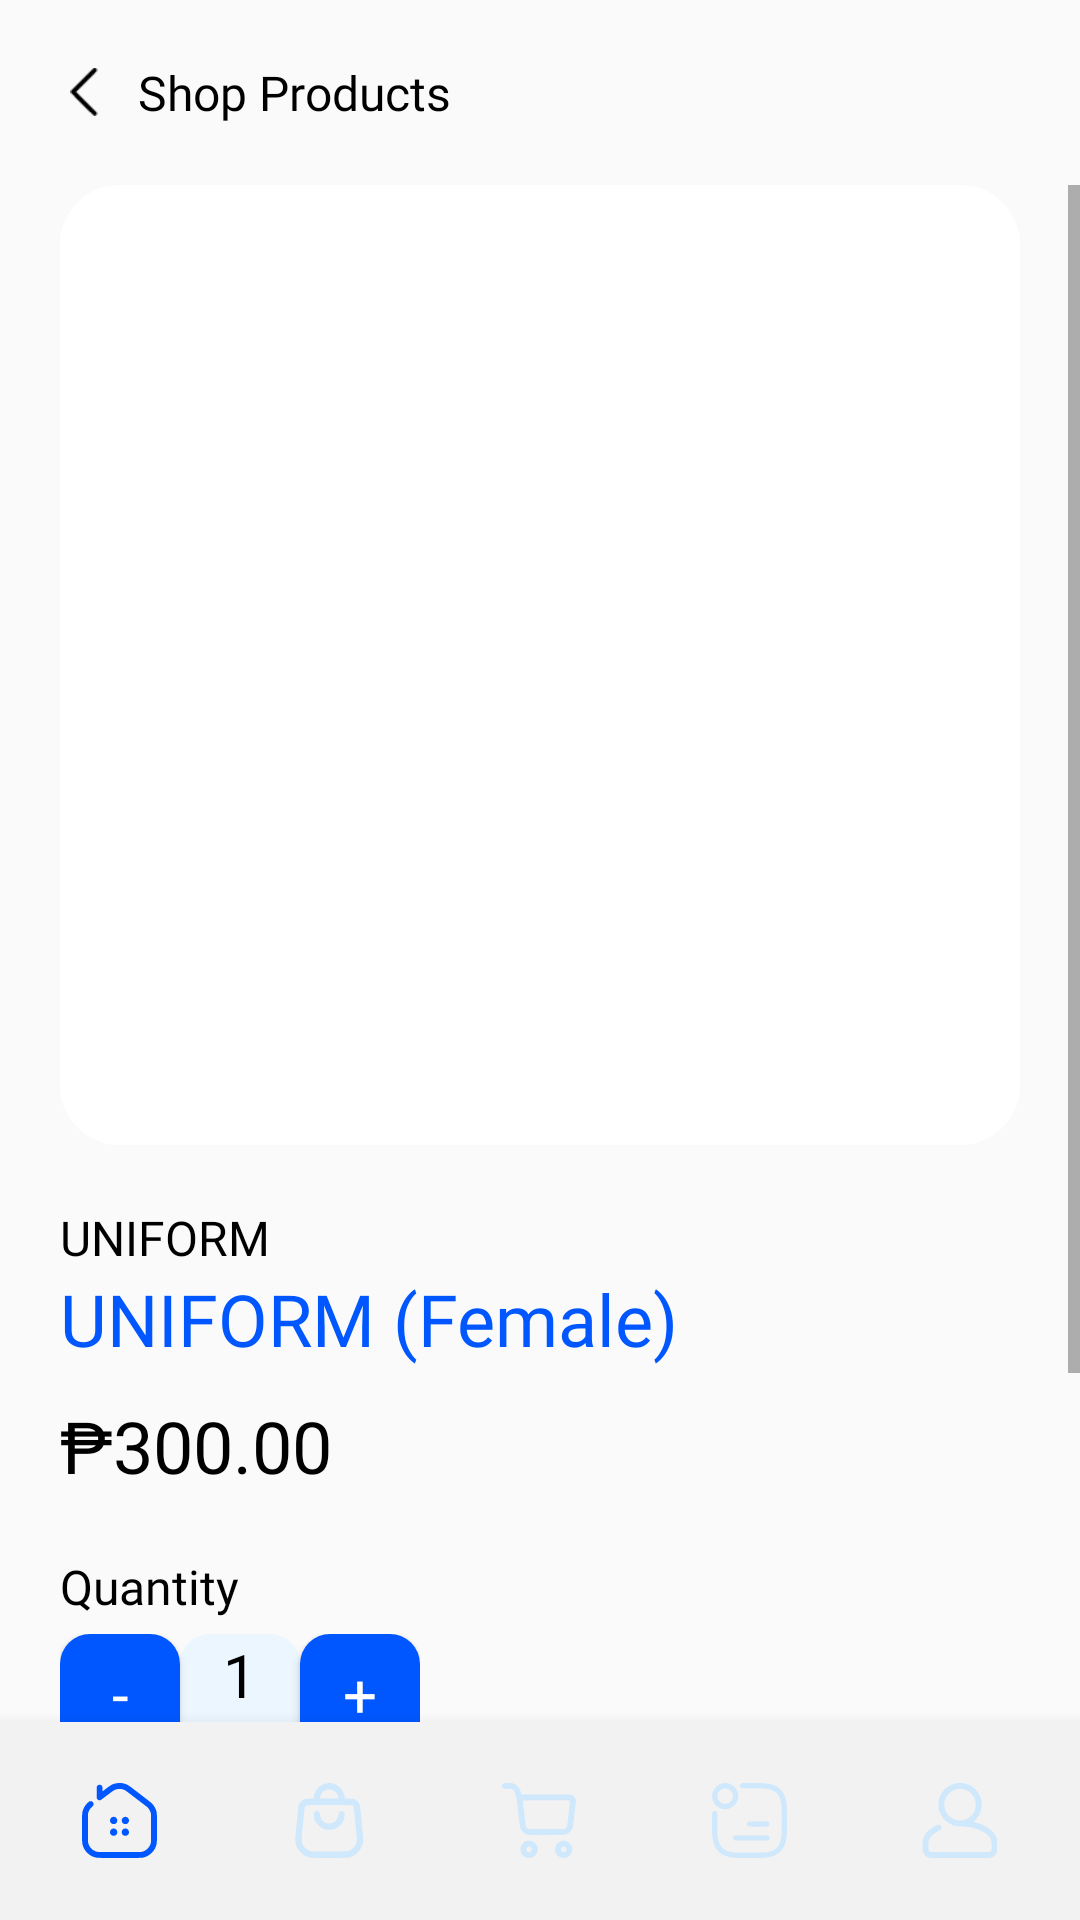

Screen size 1080×1920. Icon name, then its box in pixels as (x1, y1, x2, y2):
back: (70, 68, 98, 116)
